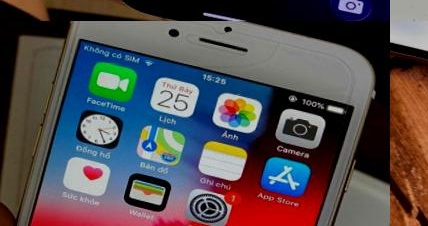screen_defect: (196, 21, 328, 102)
